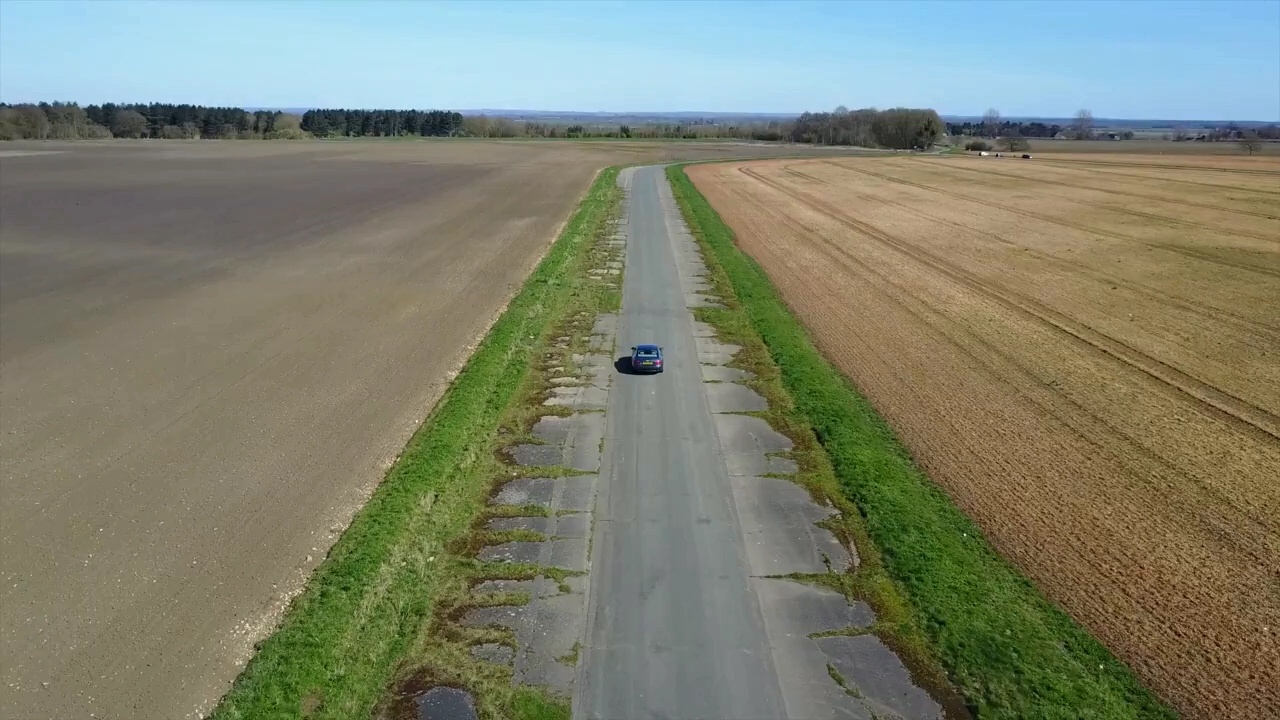araba: (625, 342, 665, 374)
